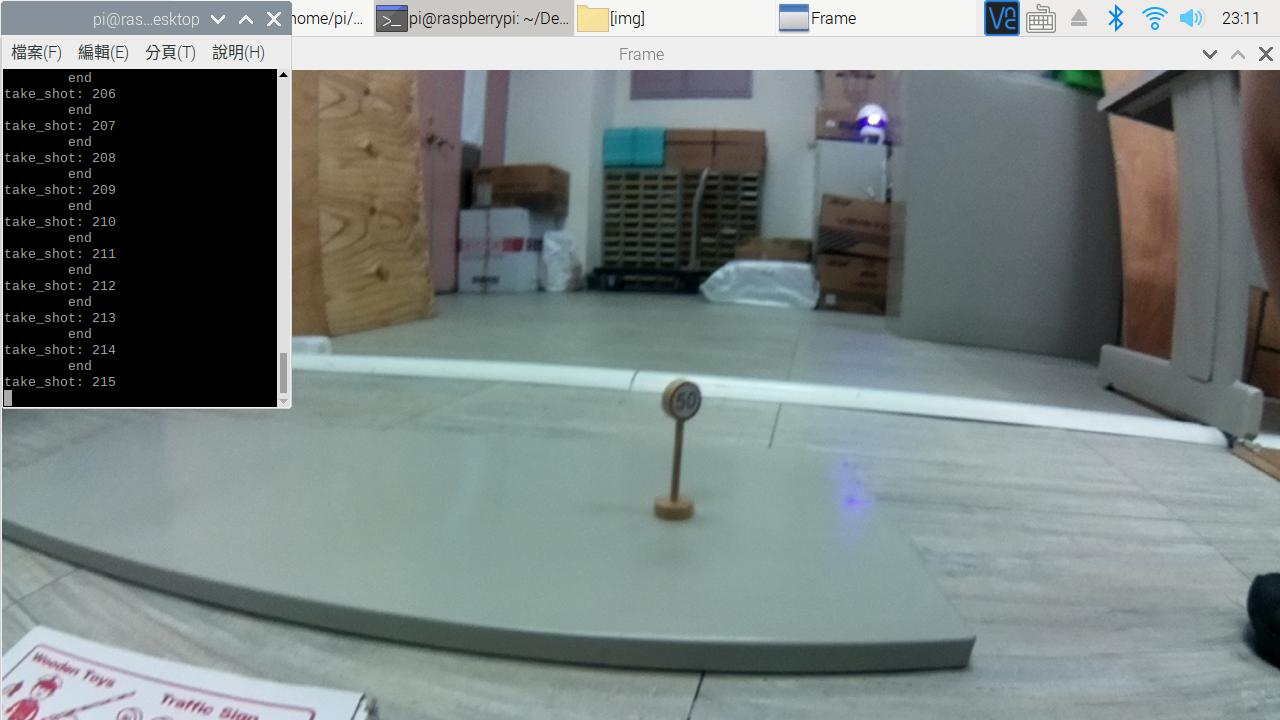Speed50: (640, 374, 737, 440)
